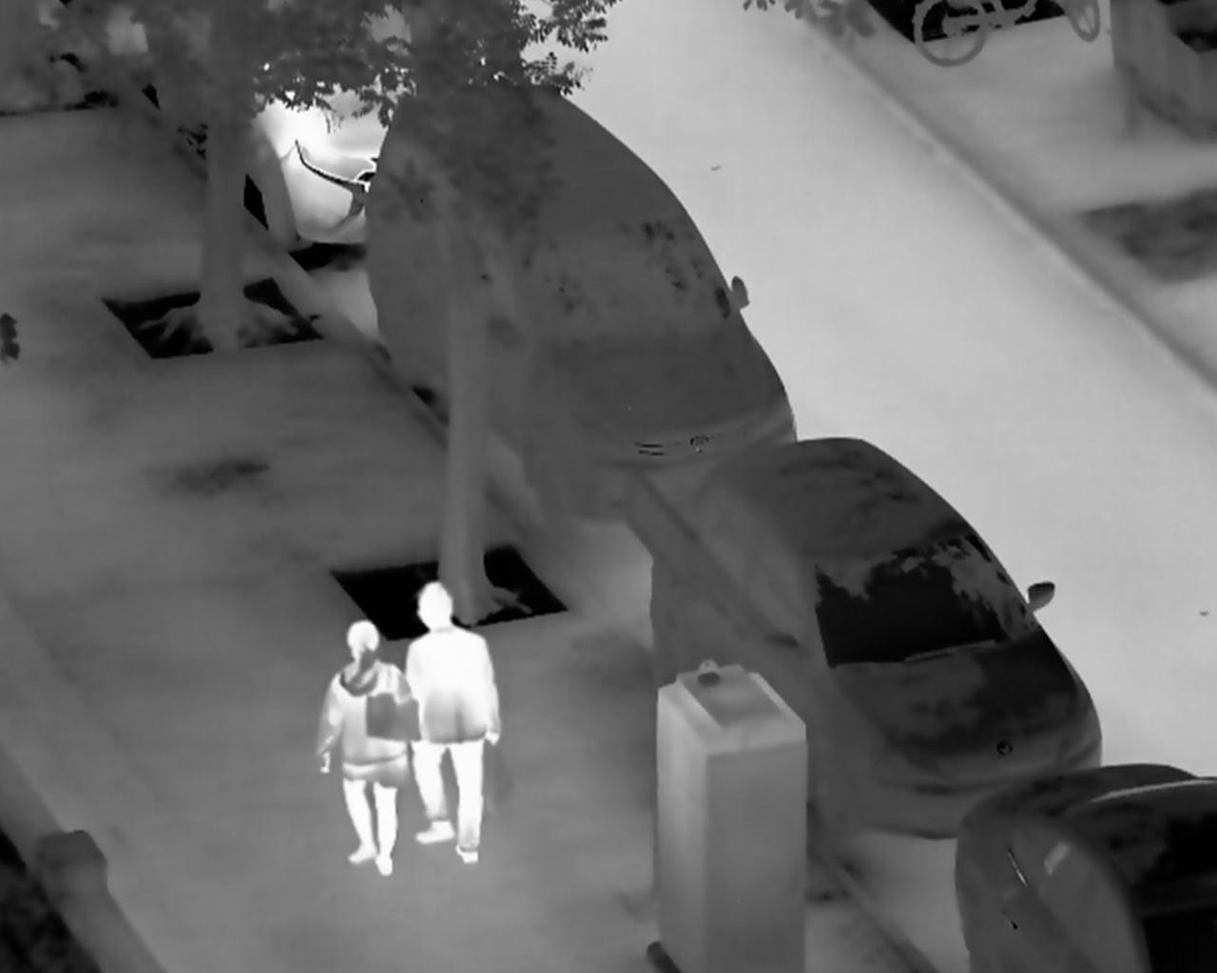person: (399, 580, 506, 865), (312, 619, 419, 876)
